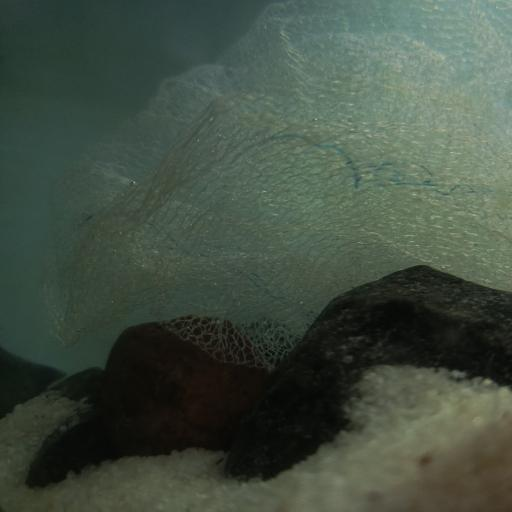net: (43, 0, 512, 370)
